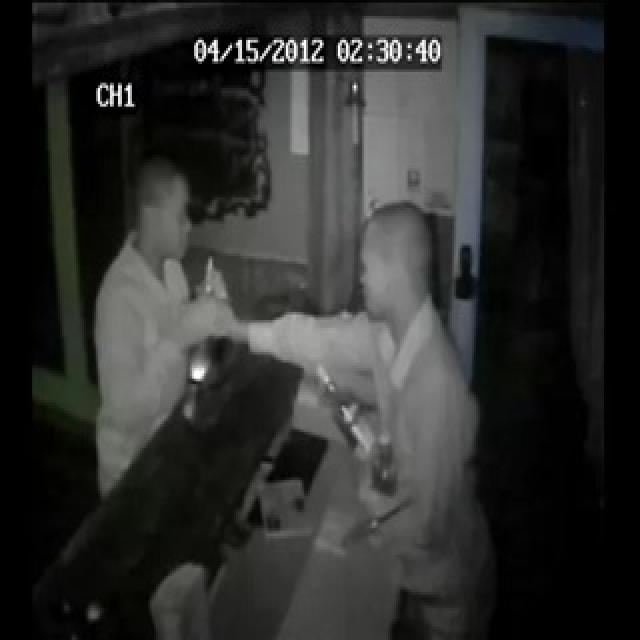thief: (337, 182, 477, 392), (78, 120, 221, 278)
